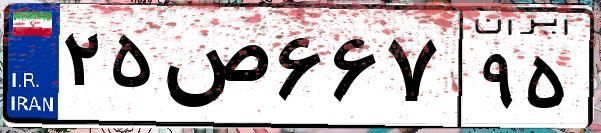2: (57, 26, 110, 100)
5: (525, 38, 570, 115), (110, 28, 158, 98)
6: (270, 28, 330, 110), (330, 28, 385, 110)
7: (385, 28, 445, 110)
9: (475, 38, 525, 113)
ص: (158, 20, 270, 120)
